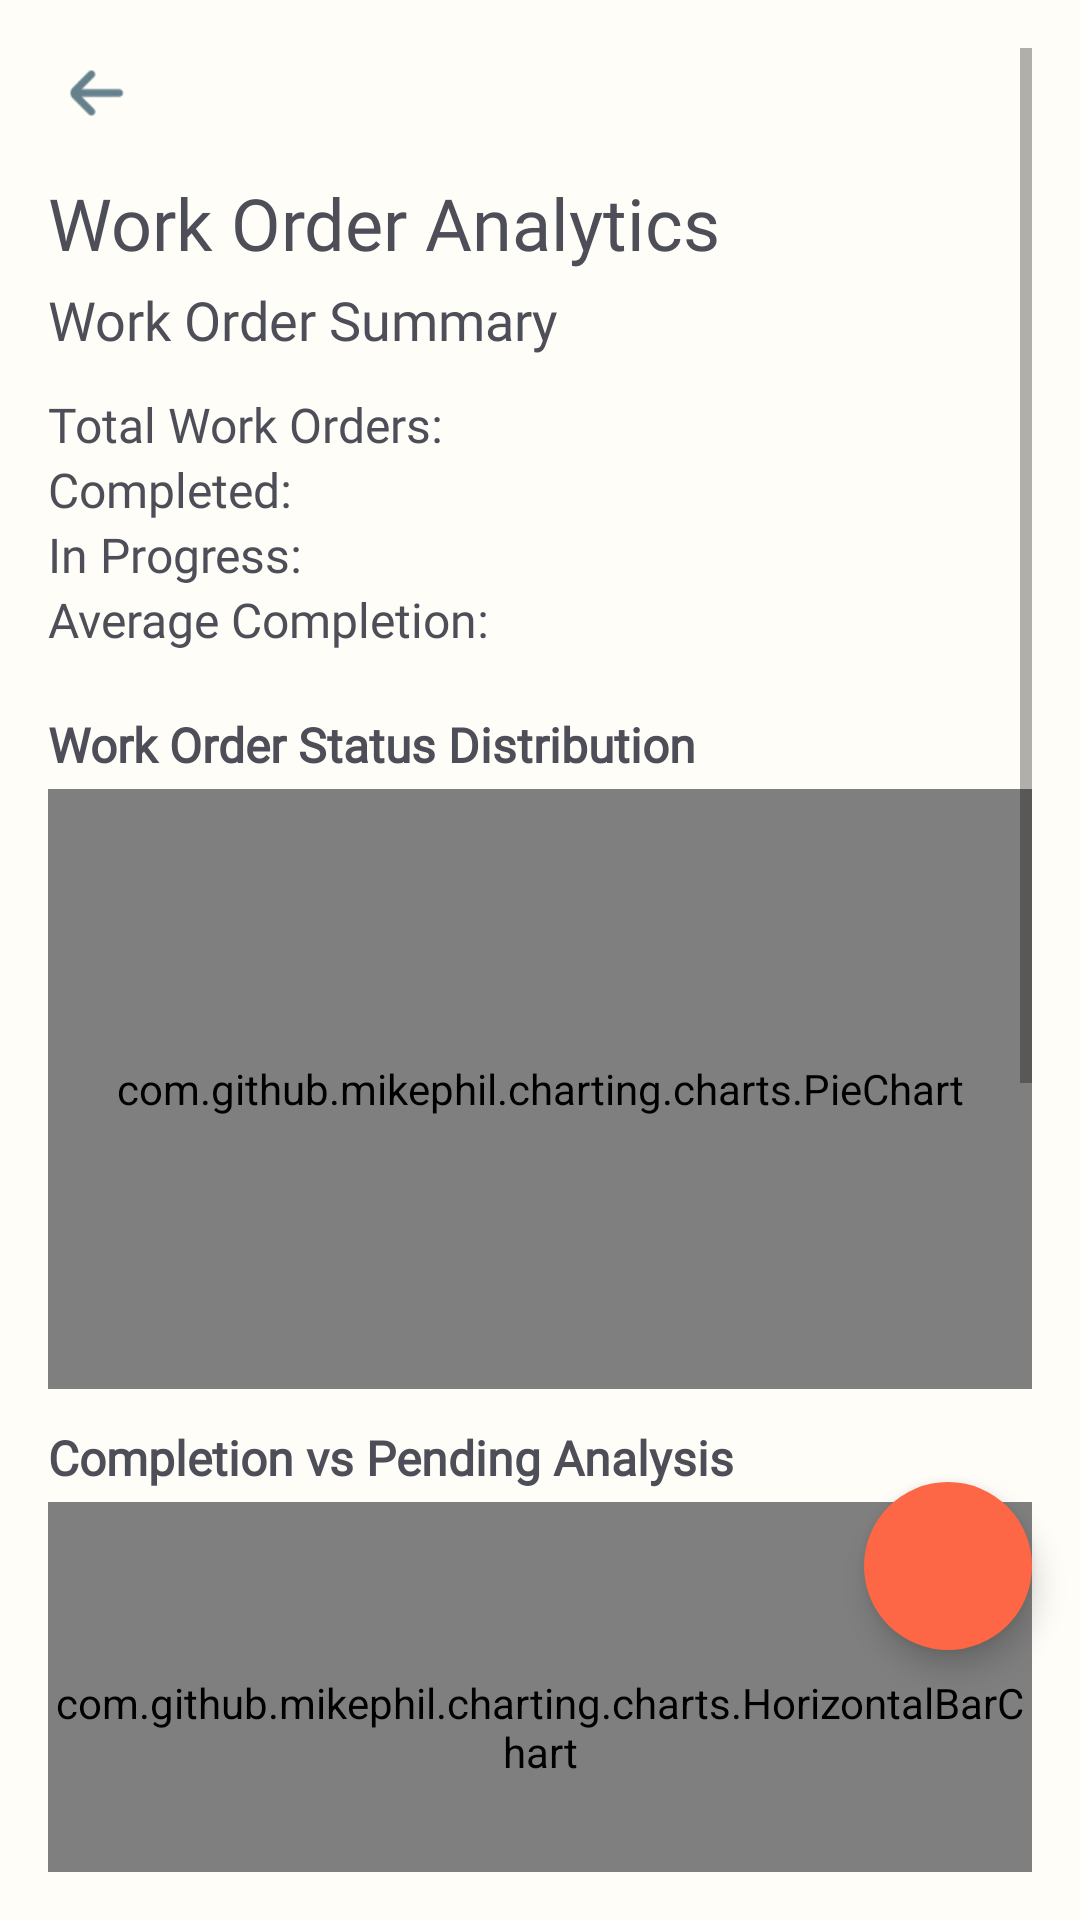

Icons on this 1080*1920 Android screen, each with its box as [x1,y1,x2,y2]:
Back: [70,70,124,116]
